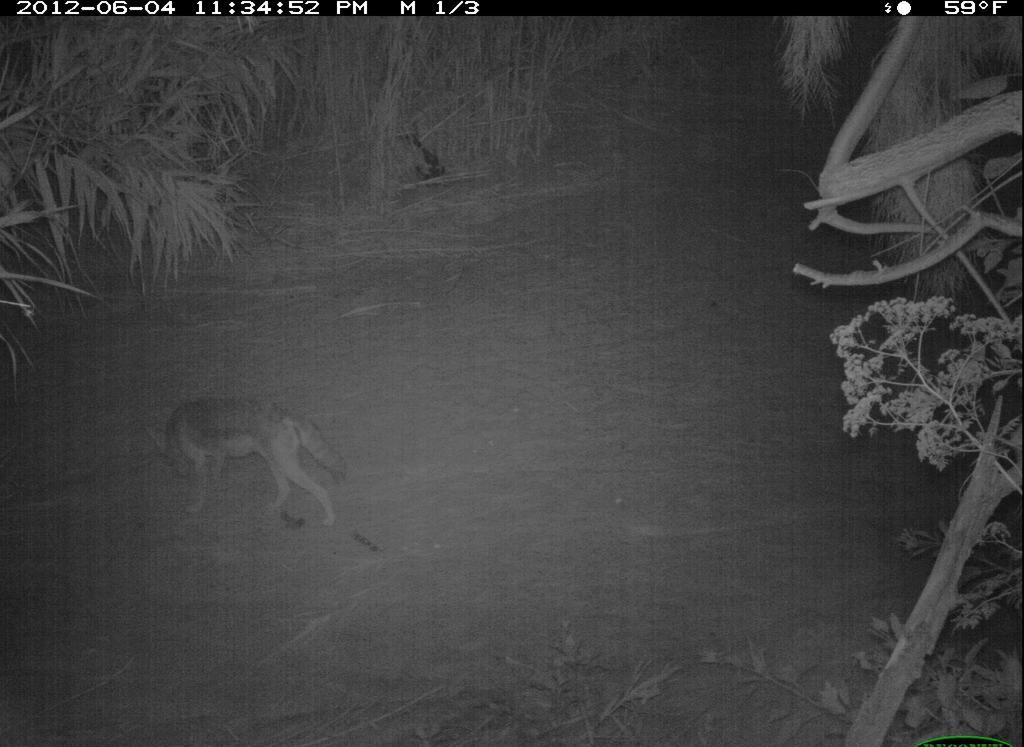coyote: (140, 387, 360, 545)
